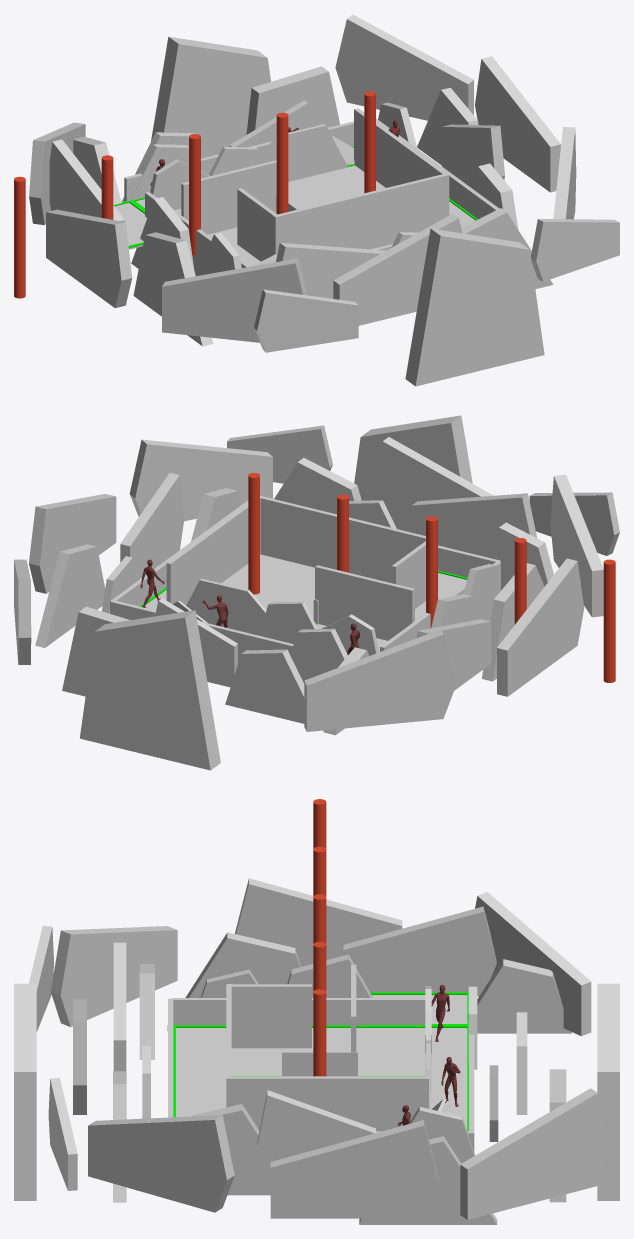
File: PL_LBVR_SC05_v02.fbx
3 views of the same model, one above another, from view 1: azimuth 30°, elevation 25°; view 2: azimuth 150°, elevation 25°; view 3: azimuth 270°, elevation 25° (orthographic). The views are drawn at different scales.
Visible parts, largest first — view 1: Cube.056, Cube.072, Cube.071, Cube.069, Cube.067, DEIXAR EM TODOS OS LEVELS P/ REF, Cube.066, Cube.054, Cube.060, Cube.074, Cube.073, Plane.016 (+20 smaller); view 2: Cube.056, Cube.071, Cube.068, Cube.061, Cube.066, DEIXAR EM TODOS OS LEVELS P/ REF, Cube.054, Cube.057, Cube.060, Cube.072, Cube.044, Cube.052 (+21 smaller); view 3: Cube.056, Plane.016, Cube.054, Cube.069, Cube.061, Cube.063, Cube.067, Cube.066, Cube.065, Cube.068, Cube.072, Cube.051 (+20 smaller).
Boxes of the visible parts, left/top/right/bottom form: Cube.056: left=124, top=108, right=511, bottom=276; Cube.072: left=405, top=228, right=544, bottom=386; Cube.071: left=151, top=36, right=270, bottom=156; Cube.069: left=335, top=14, right=473, bottom=120; Cube.067: left=162, top=258, right=307, bottom=342; DEIXAR EM TODOS OS LEVELS P/ REF: left=14, top=91, right=375, bottom=298; Cube.066: left=46, top=209, right=132, bottom=308; Cube.054: left=475, top=56, right=560, bottom=192; Cube.060: left=333, top=213, right=462, bottom=325; Cube.074: left=254, top=289, right=358, bottom=352; Cube.073: left=531, top=219, right=619, bottom=281; Plane.016: left=115, top=165, right=475, bottom=266; Cube.056: left=110, top=495, right=500, bottom=687; Cube.071: left=79, top=610, right=220, bottom=770; Cube.068: left=304, top=629, right=456, bottom=731; Cube.061: left=129, top=439, right=272, bottom=521; Cube.066: left=497, top=558, right=584, bottom=696; DEIXAR EM TODOS OS LEVELS P/ REF: left=248, top=473, right=615, bottom=682; Cube.054: left=29, top=494, right=116, bottom=593; Cube.057: left=411, top=493, right=536, bottom=555; Cube.060: left=371, top=437, right=493, bottom=532; Cube.072: left=354, top=415, right=472, bottom=500; Cube.044: left=225, top=649, right=304, bottom=723; Cube.052: left=35, top=544, right=105, bottom=647; Cube.056: left=168, top=964, right=474, bottom=1195; Plane.016: left=176, top=995, right=467, bottom=1130; Cube.054: left=270, top=1120, right=438, bottom=1218; Cube.069: left=460, top=1088, right=609, bottom=1219; Cube.061: left=88, top=1115, right=234, bottom=1212; Cube.063: left=343, top=906, right=496, bottom=996; Cube.067: left=50, top=926, right=177, bottom=1027; Cube.066: left=235, top=878, right=402, bottom=966; Cube.065: left=468, top=959, right=571, bottom=1033; Cube.068: left=475, top=892, right=591, bottom=1036; Cube.072: left=14, top=983, right=36, bottom=1200; Cube.051: left=257, top=1090, right=375, bottom=1179.
Bounding box in the file's own units: 2103 × 649 × 1886.
